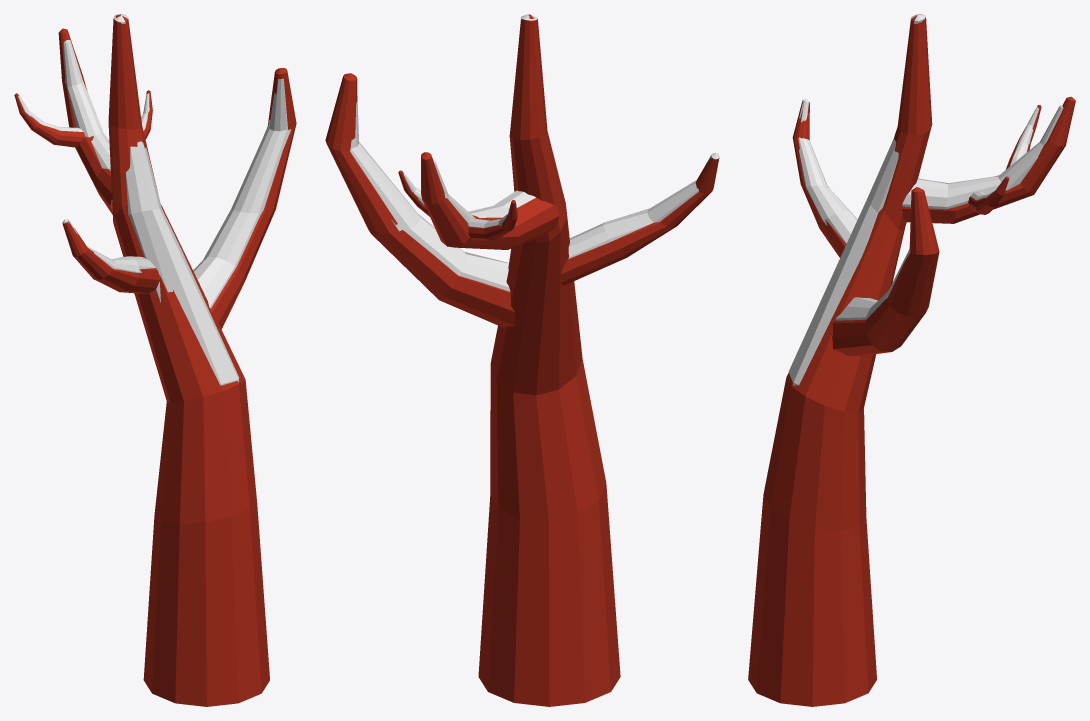
The model's file is Tree_snow2.fbx.
The picture shows the model from 3 angles, left to right: view 1: azimuth 30°, elevation 25°; view 2: azimuth 150°, elevation 25°; view 3: azimuth 270°, elevation 25°; orthographic projection. The views are drawn at different scales.
Visible parts, largest first — view 1: Cylinder.007; view 2: Cylinder.007; view 3: Cylinder.007.
Boxes of the visible parts, <box> form: Cylinder.007: <box>14,14,296,706</box>; Cylinder.007: <box>325,14,719,706</box>; Cylinder.007: <box>748,14,1075,706</box>.
Size of the model in its own units: 115 by 241 by 110.
